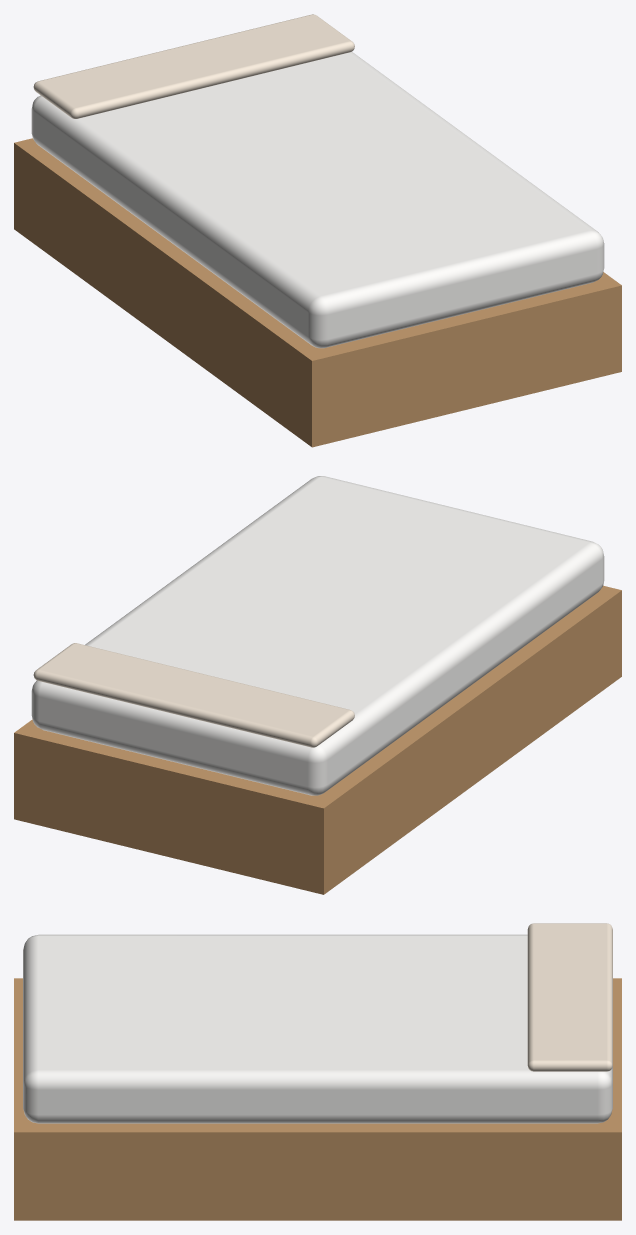
The model's file is daybed-lite.glb.
The picture shows the model from 3 angles, top to bottom: view 1: azimuth 30°, elevation 25°; view 2: azimuth 150°, elevation 25°; view 3: azimuth 270°, elevation 25°; orthographic projection.
Visible parts, largest first — view 1: material-1-upholstery, material-0-body, material-2-cushion; view 2: material-1-upholstery, material-0-body, material-2-cushion; view 3: material-1-upholstery, material-0-body, material-2-cushion.
Boxes of the visible parts, x1,y1,x2,y2 form: material-1-upholstery: (31,51,604,348); material-0-body: (14,138,621,447); material-2-cushion: (33,14,354,118); material-1-upholstery: (31,476,604,795); material-0-body: (14,585,621,894); material-2-cushion: (33,643,354,747); material-1-upholstery: (23,934,612,1123); material-0-body: (14,978,621,1220); material-2-cushion: (527,923,612,1071).
Size of the model in its own units: 1.2 by 0.55 by 2.
